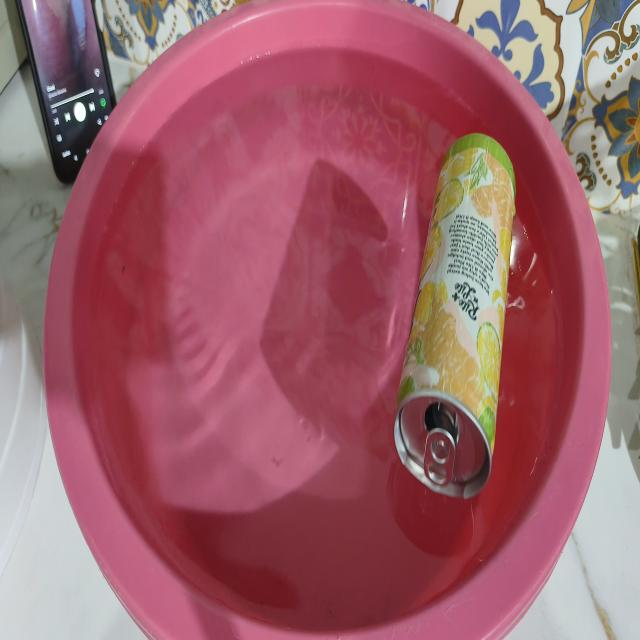Aluminum Can: (395, 134, 515, 499)
